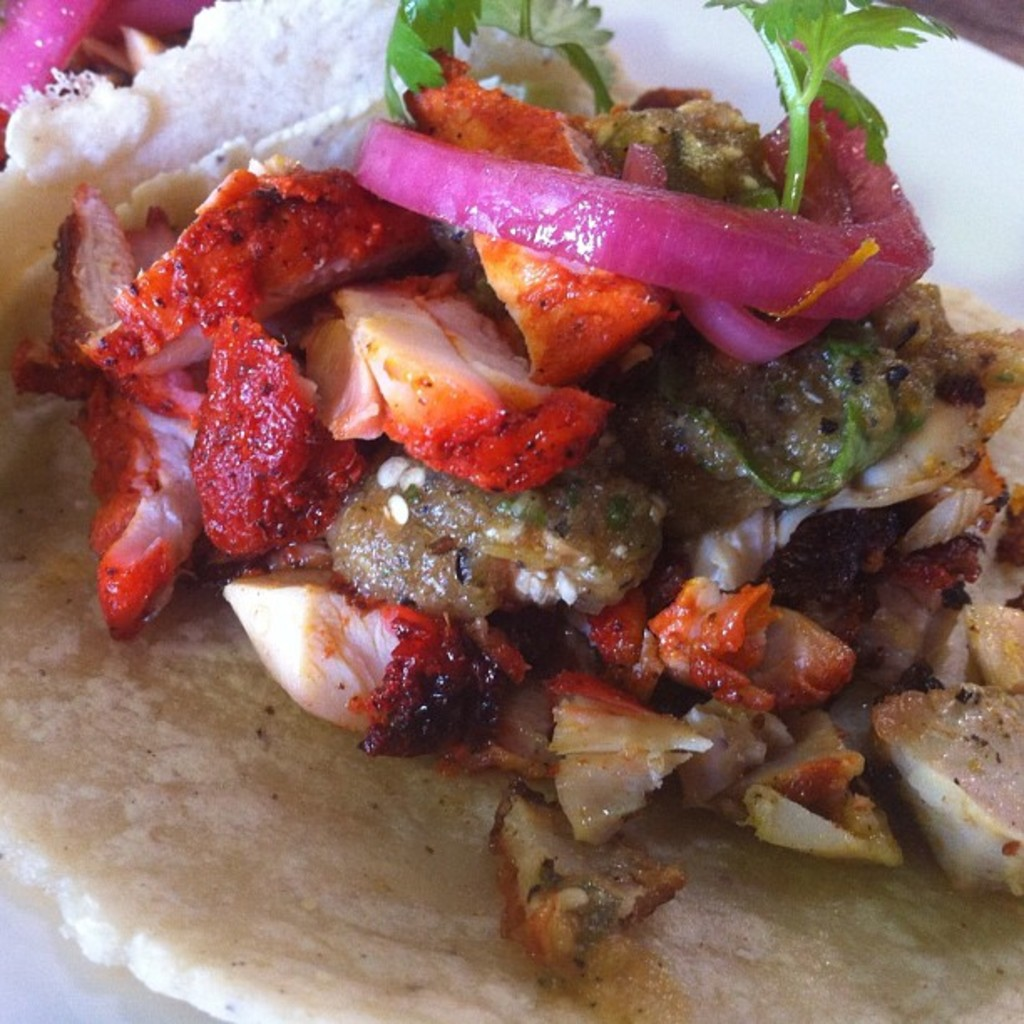taco: (13, 8, 1024, 1001)
